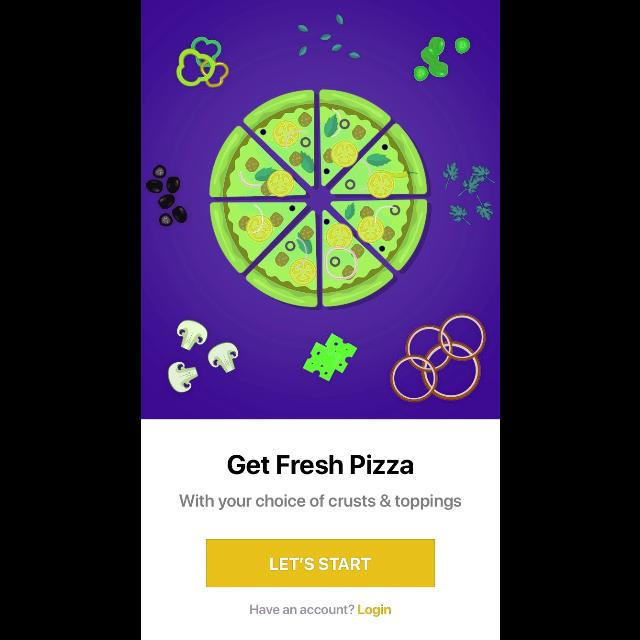image: (140, 1, 500, 420)
text: (178, 494, 462, 511), (226, 453, 414, 475), (249, 604, 391, 616)
textbutton: (206, 539, 434, 587)
